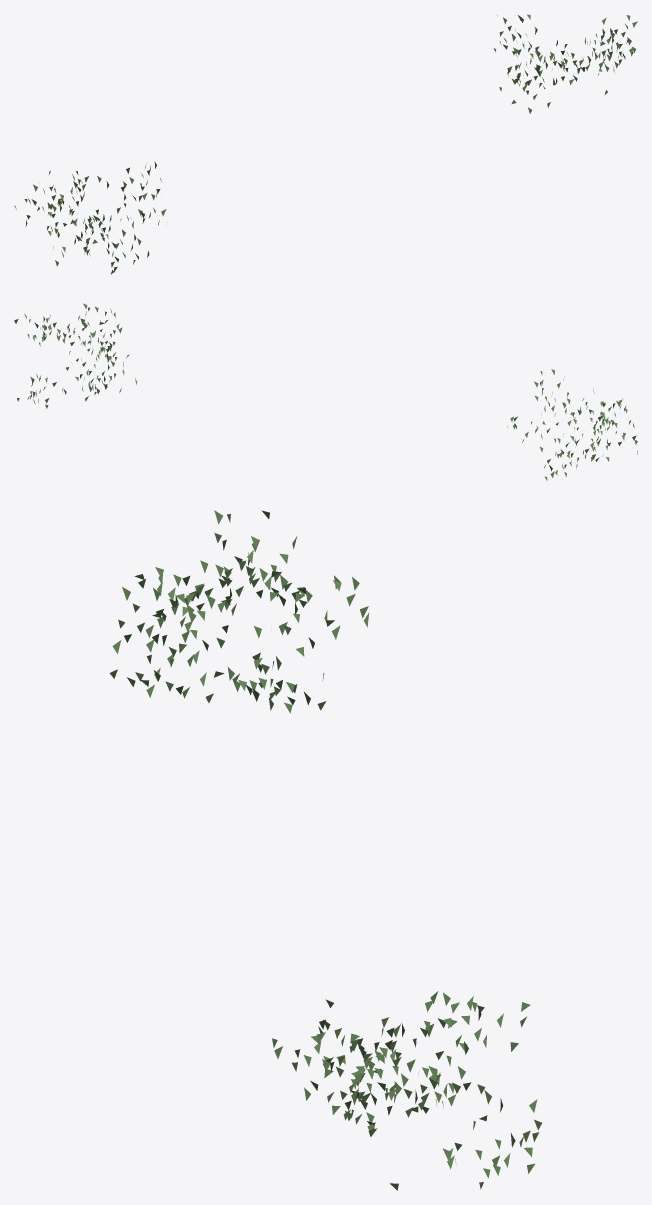
File: xiyuan-vegetation-21-far.glb
The picture shows the model from 3 angles, top to bottom: view 1: azimuth 30°, elevation 25°; view 2: azimuth 150°, elevation 25°; view 3: azimuth 270°, elevation 25°; orthographic projection. The views are drawn at different scales.
Parts seen in each view (by area): view 1: vegetation broadleaf leaves.003; view 2: vegetation broadleaf leaves.003; view 3: vegetation broadleaf leaves.003.
Boxes of the visible parts, <box> form: vegetation broadleaf leaves.003: <box>14,14,637,274</box>; vegetation broadleaf leaves.003: <box>14,303,637,480</box>; vegetation broadleaf leaves.003: <box>109,510,541,1190</box>.
Bounding box in the file's own units: 35.87 × 5.5 × 11.87.
